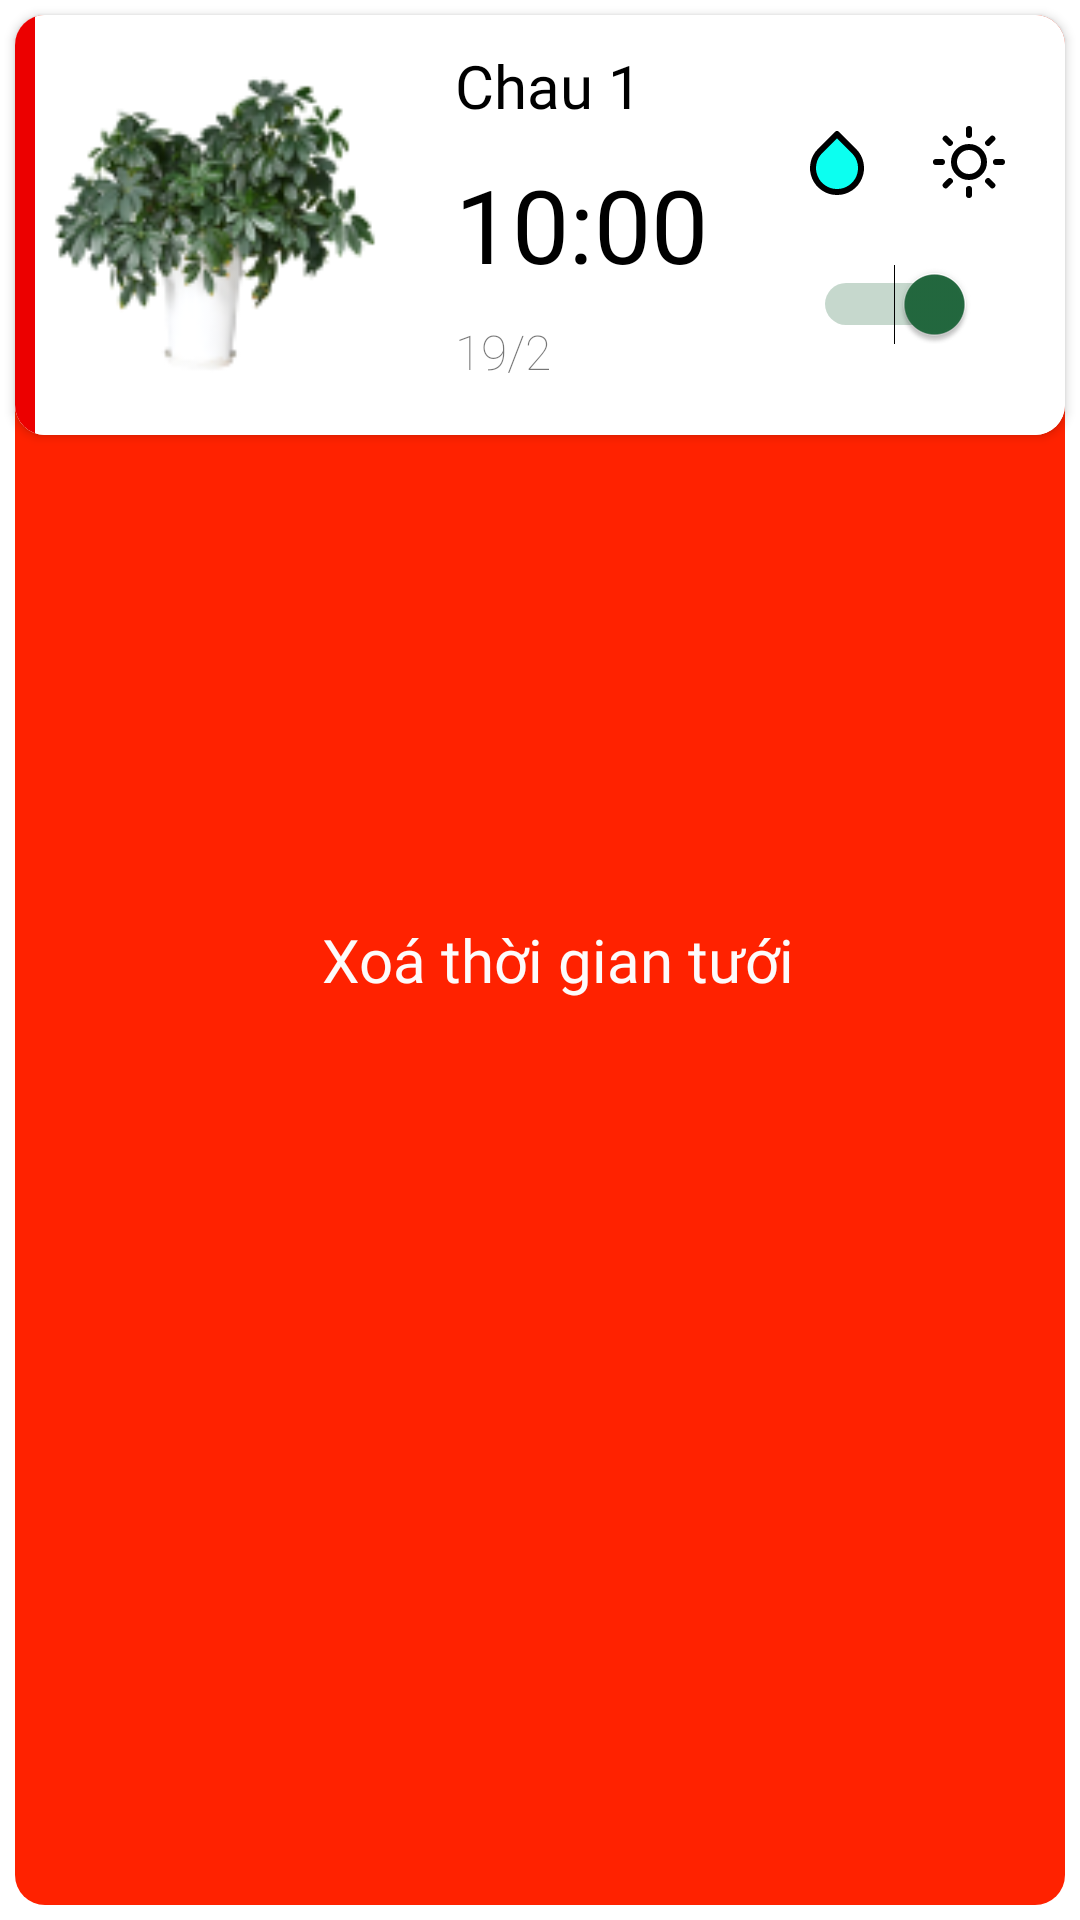

Named icons in this screenshot (1080 x 1920) and their centers, [x,y]:
sun empty: [969,162]
water: [837,163]
